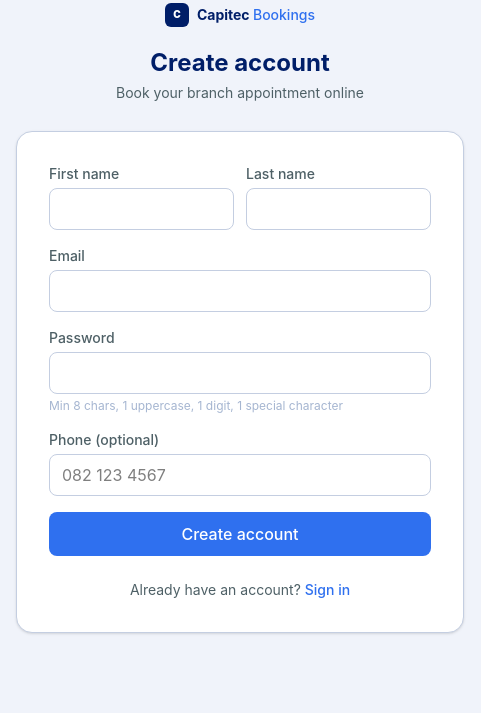
Scenario: RegisterPage › shows client-side error for missing first name
Click the button "Create account". click: (240, 534)
box: [49,512,431,556]
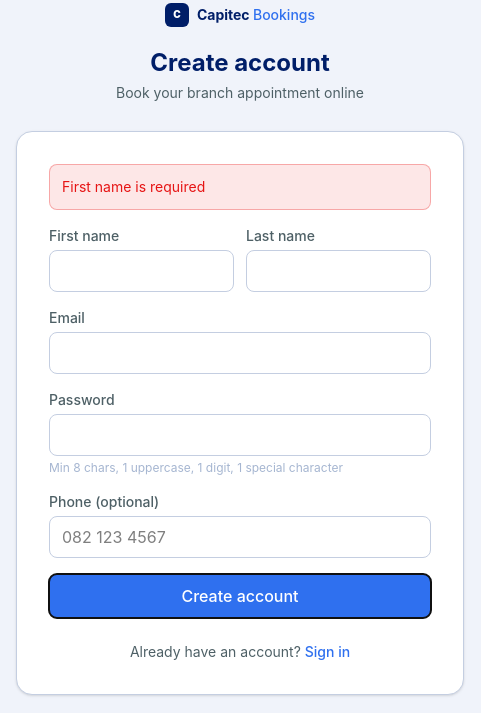
Expected: the message reads "First name is required", [62,178,205,194]
